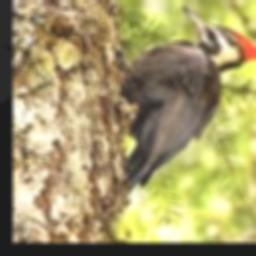Woodpecker: (119, 5, 256, 191)
